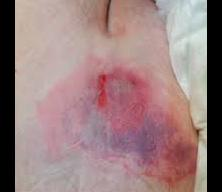Stage2: (45, 59, 189, 191)
